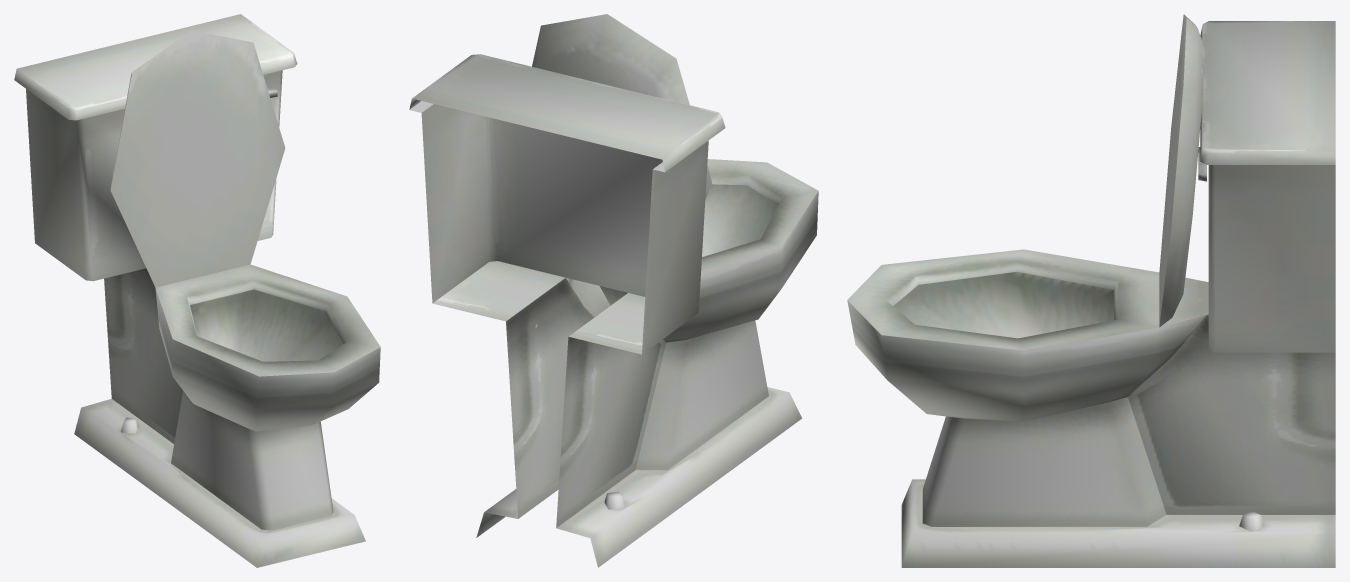
Rendered from cleantoilet.fbx.
3 views of the same model, side by side, from view 1: azimuth 30°, elevation 25°; view 2: azimuth 150°, elevation 25°; view 3: azimuth 270°, elevation 25° (orthographic). The views are drawn at different scales.
Parts seen in each view (by area): view 1: mesh_0; view 2: mesh_0; view 3: mesh_0.
Part boxes in pixels (left/top/right/bottom): mesh_0: left=14, top=14, right=380, bottom=567; mesh_0: left=409, top=14, right=818, bottom=567; mesh_0: left=847, top=14, right=1335, bottom=567.
Size of the model in its own units: 58.04 by 106 by 90.37.
Materials: 1 (1 with a texture image).
